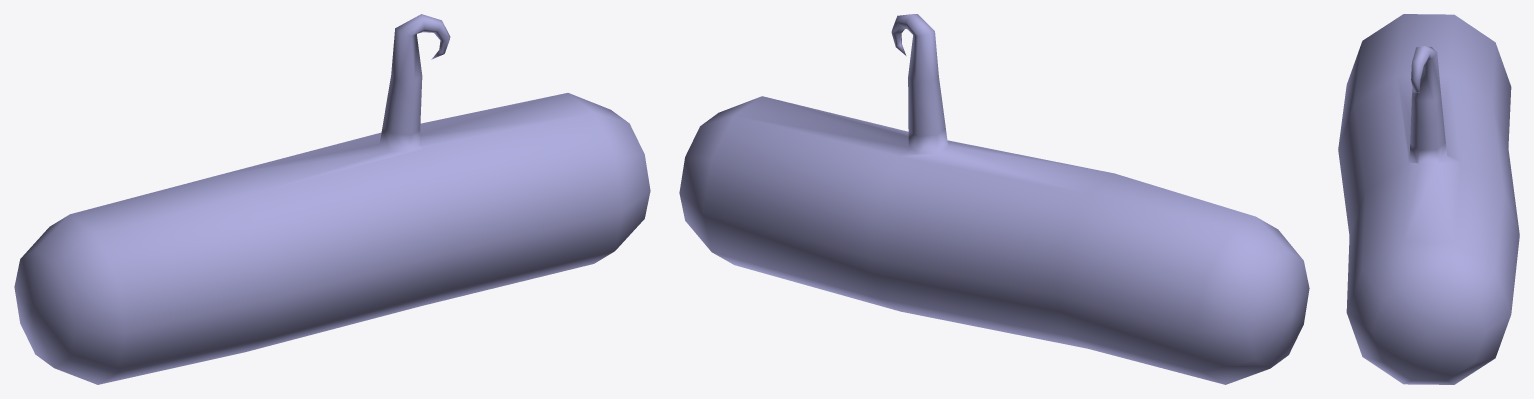
The model's file is Ghostly_Log.glb.
3 views of the same model, side by side, from view 1: azimuth 30°, elevation 25°; view 2: azimuth 150°, elevation 25°; view 3: azimuth 270°, elevation 25° (orthographic). The views are drawn at different scales.
Parts seen in each view (by area): view 1: Ghostly_Log; view 2: Ghostly_Log; view 3: Ghostly_Log.
Boxes of the visible parts, x1,y1,x2,y2 form: Ghostly_Log: (14, 14, 650, 384); Ghostly_Log: (679, 14, 1309, 384); Ghostly_Log: (1338, 14, 1519, 384).
Size of the model in its own units: 2.3 by 1.04 by 0.6399.
